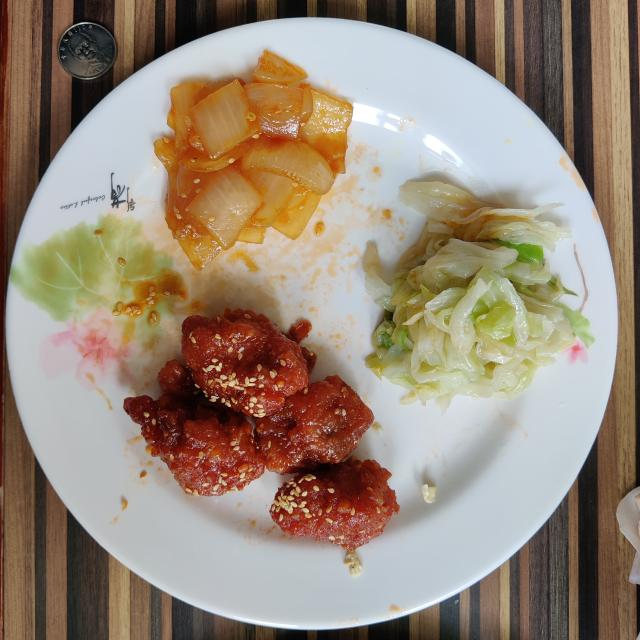cabbage: (364, 181, 590, 410)
coin: (58, 22, 116, 80)
